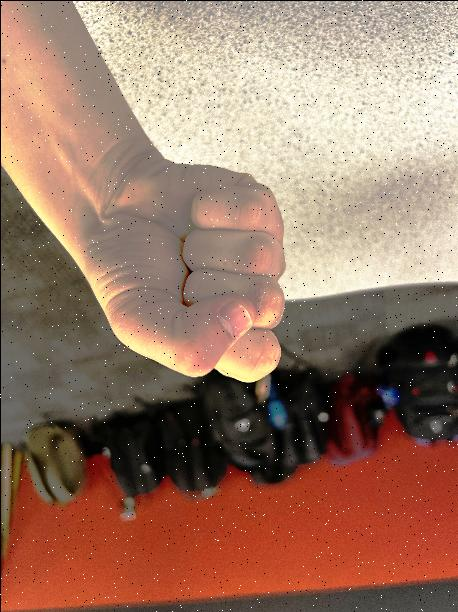Rock: (52, 107, 318, 428)
